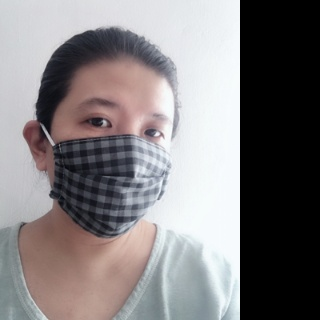with_mask: (48, 96, 175, 240)
